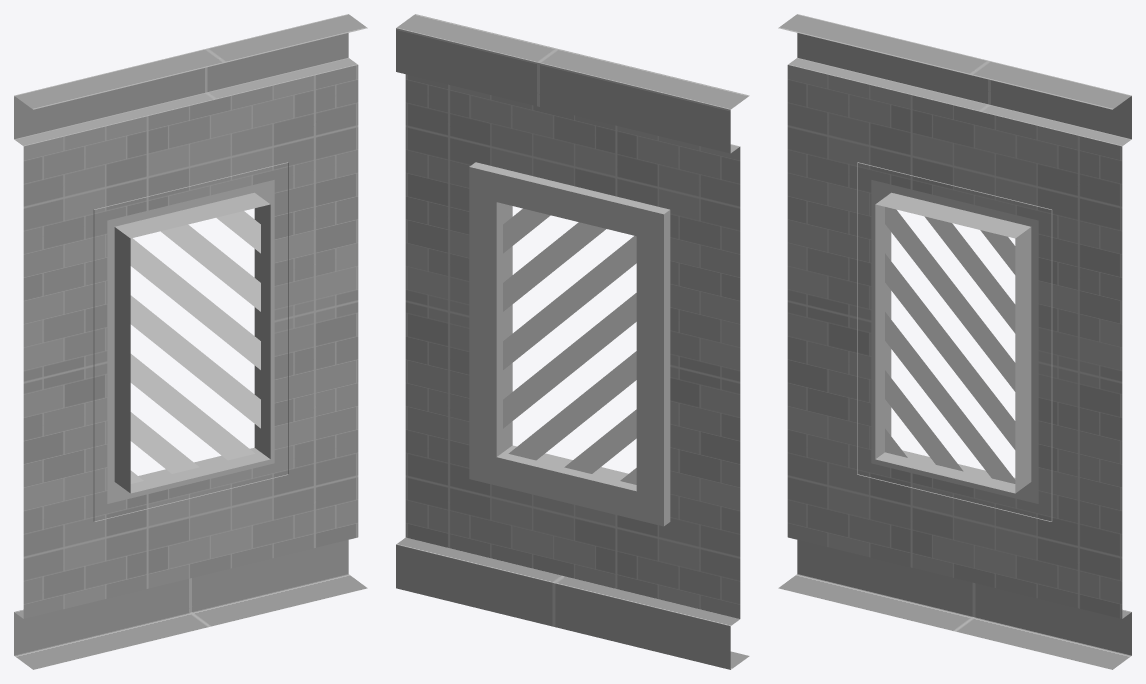
Rendered from proto_wall_windows_01.fbx.
3 views of the same model, side by side, from view 1: azimuth 30°, elevation 25°; view 2: azimuth 150°, elevation 25°; view 3: azimuth 330°, elevation 25° (orthographic).
Visible parts, largest first — view 1: proto_wall_windows_01; view 2: proto_wall_windows_01; view 3: proto_wall_windows_01.
Boxes of the visible parts, box(x1,y1,x2,y2) form: proto_wall_windows_01: box(14, 14, 367, 669); proto_wall_windows_01: box(396, 14, 749, 669); proto_wall_windows_01: box(778, 14, 1131, 669).
Bounding box in the file's own units: 200 × 320 × 20.
